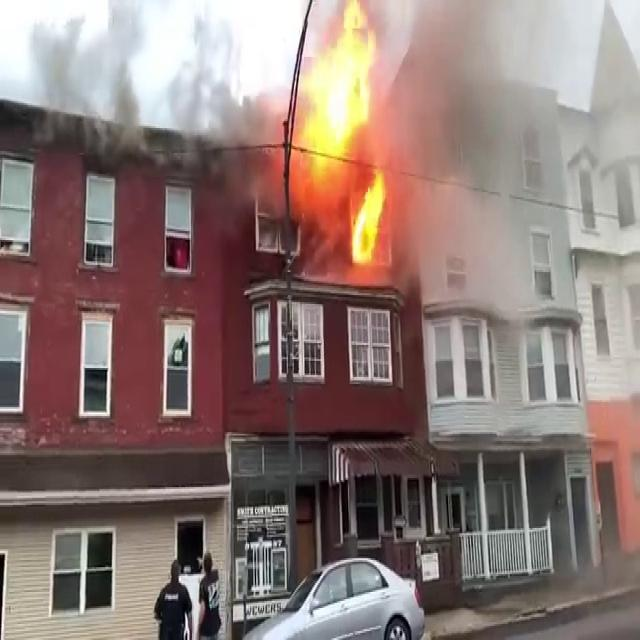Fire: (291, 0, 394, 272)
Smoke: (382, 1, 564, 308), (22, 0, 294, 176)
